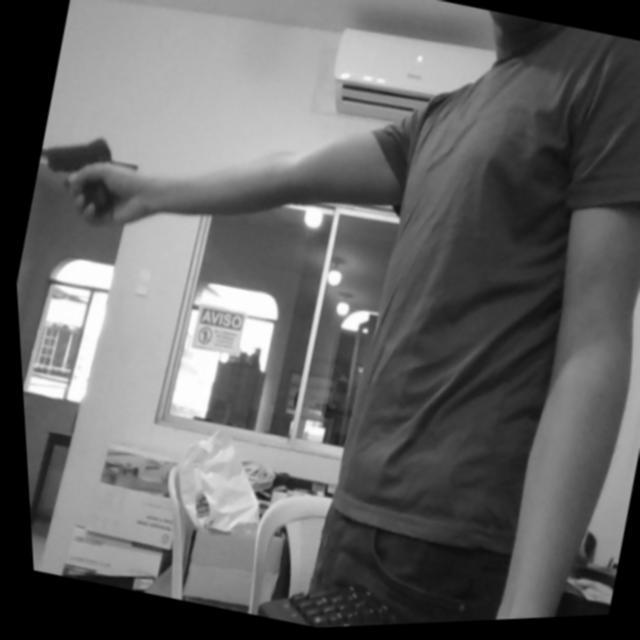weapon: (24, 122, 144, 228)
